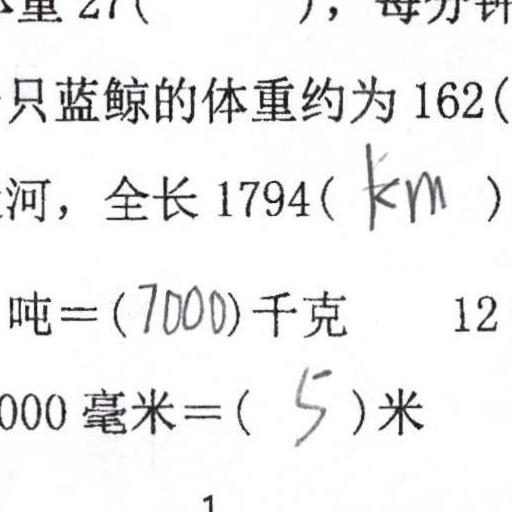ans: (359, 144, 451, 235), (133, 277, 226, 336), (286, 359, 333, 446)
